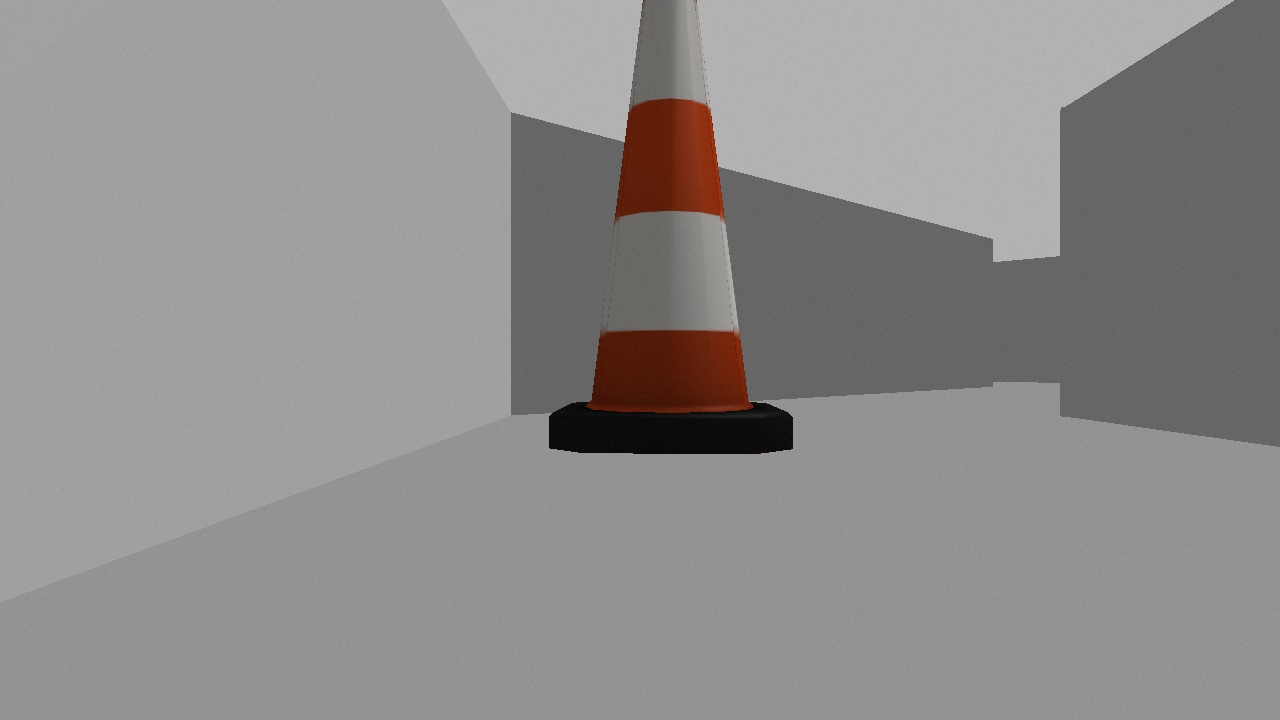barricade: (546, 1, 791, 453)
